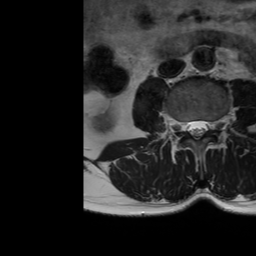CCS_normal: (192, 110, 200, 147)
LFS_normal: (209, 111, 217, 138)
LLS_normal: (200, 112, 209, 142)
RFS_normal: (176, 112, 184, 138)
RLS_normal: (184, 113, 192, 141)
